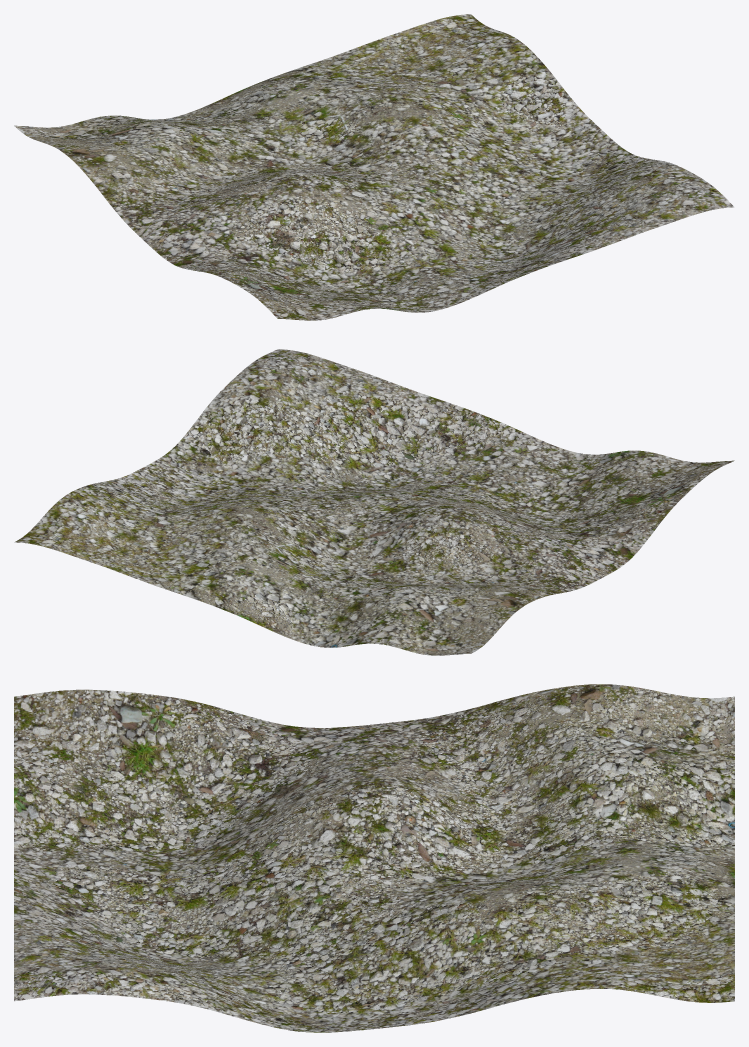
Rendered from terrain.obj.
3 views of the same model, one above another, from view 1: azimuth 30°, elevation 25°; view 2: azimuth 150°, elevation 25°; view 3: azimuth 270°, elevation 25° (orthographic). The views are drawn at different scales.
Visible parts, largest first — view 1: Plane; view 2: Plane; view 3: Plane.
Part boxes in pixels (bbox=[...]): Plane: bbox=[14, 14, 734, 320]; Plane: bbox=[14, 349, 734, 655]; Plane: bbox=[14, 684, 734, 1032].
Bounding box in the file's own units: 20 × 2.29 × 20.
1 material, 1 textured.
